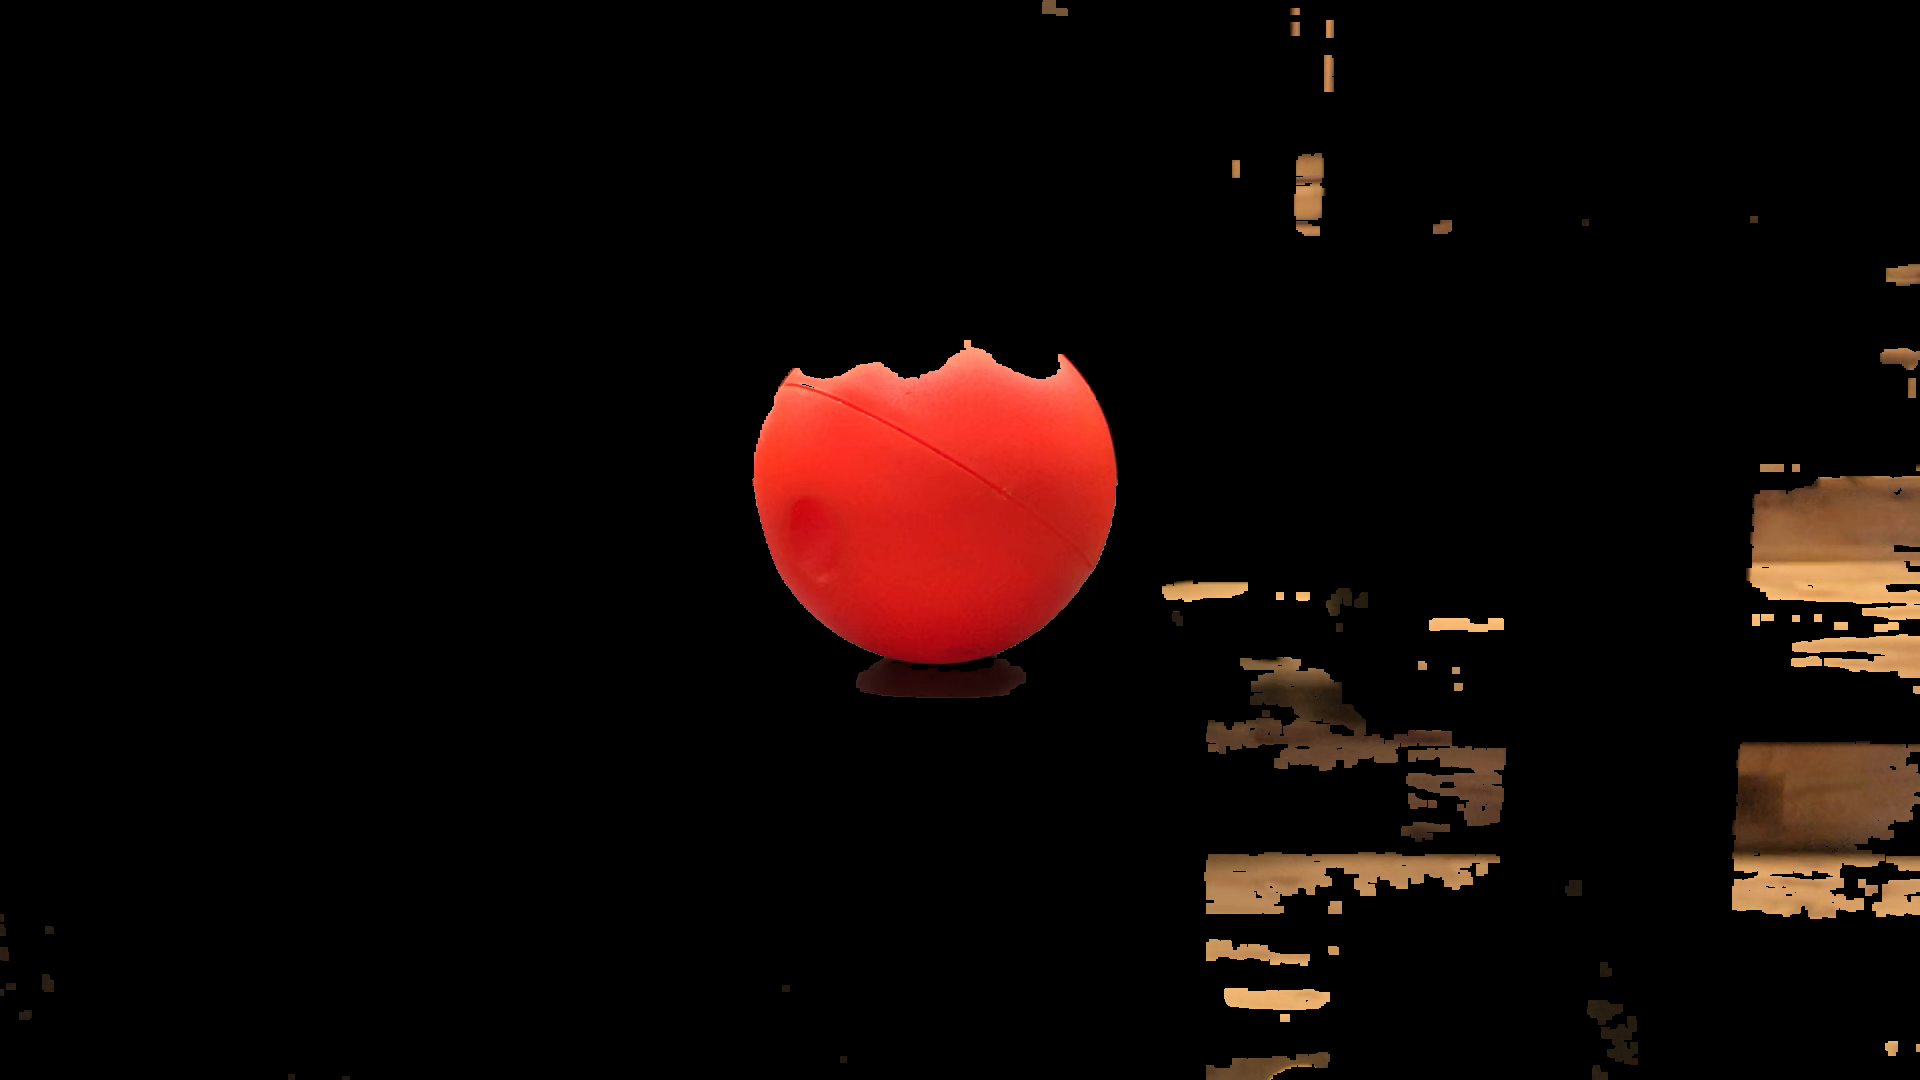Ball: (757, 301, 1124, 669)
